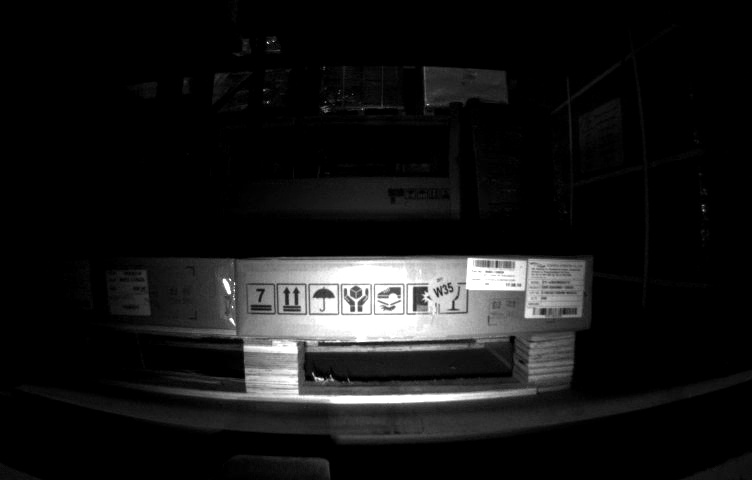True Barcode: (106, 269, 151, 315)
